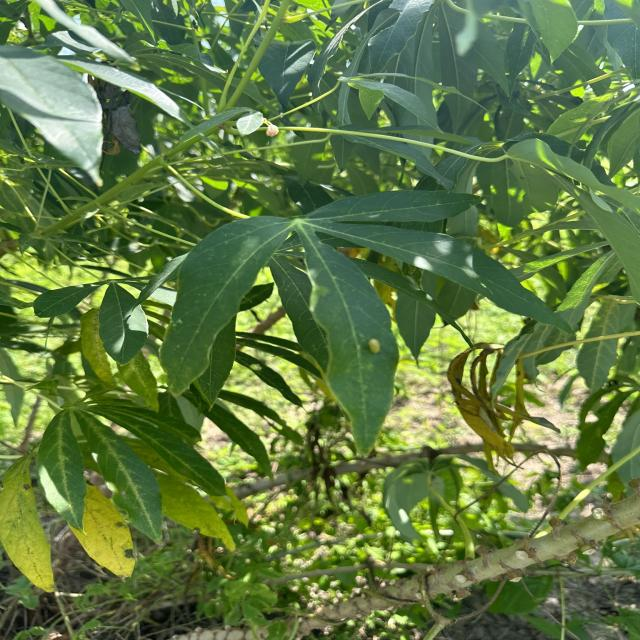Mosaico: (7, 403, 269, 600)
Mosca: (289, 253, 335, 326), (252, 114, 290, 164), (360, 323, 391, 368), (236, 354, 273, 377)
